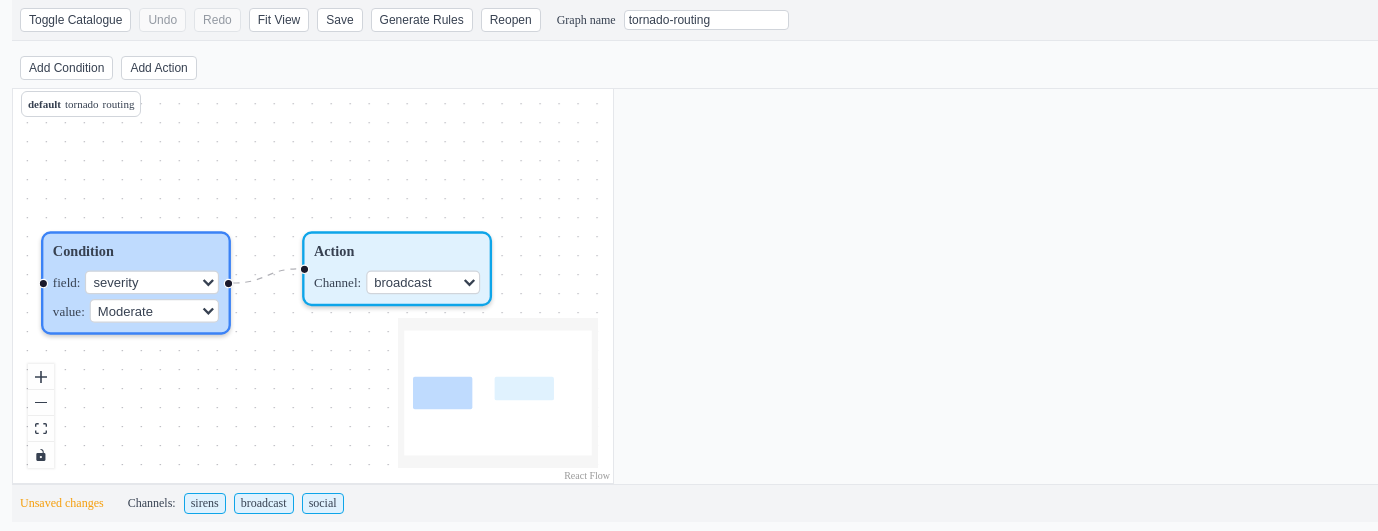
Test: designer against the rule design endpoint › shows a rejection and leaves the edit on the canvas
What coordinates should you click on to do the following:
click the button "Save"
I would click on:
 (340, 20)
Its box is [317,8,363,32].
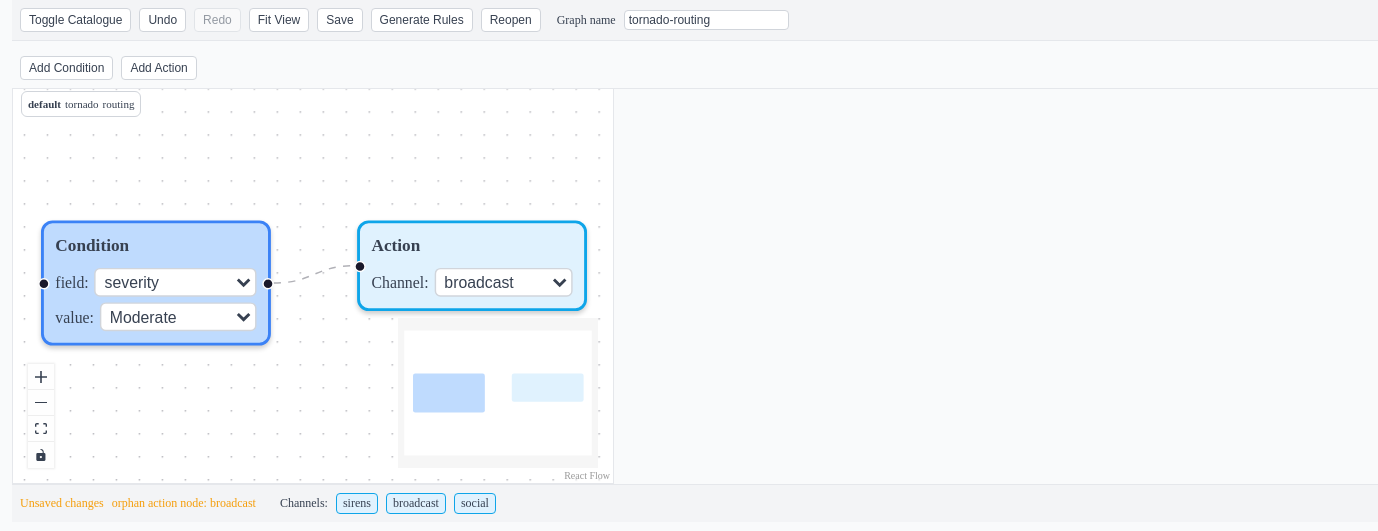
expect the text "orphan action node: broadcast" is shown: met, box [112,496,256,511]
